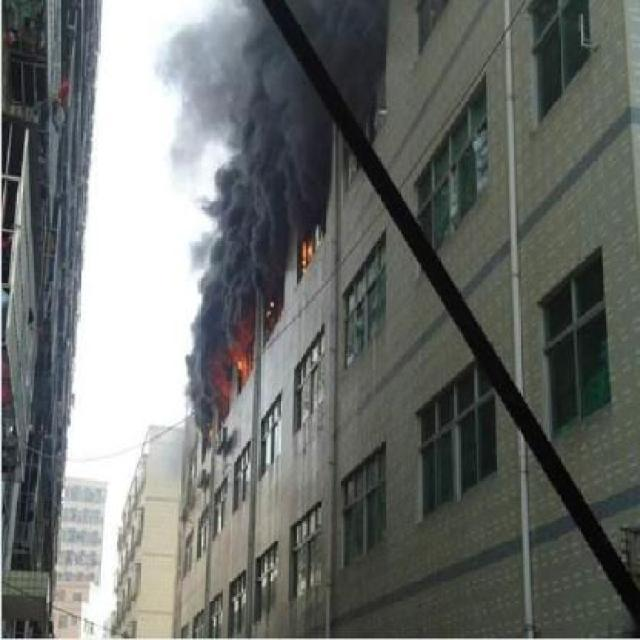Fire: (210, 333, 246, 411), (295, 236, 324, 272)
Smoke: (174, 6, 402, 228), (194, 234, 286, 328), (183, 333, 204, 411)
